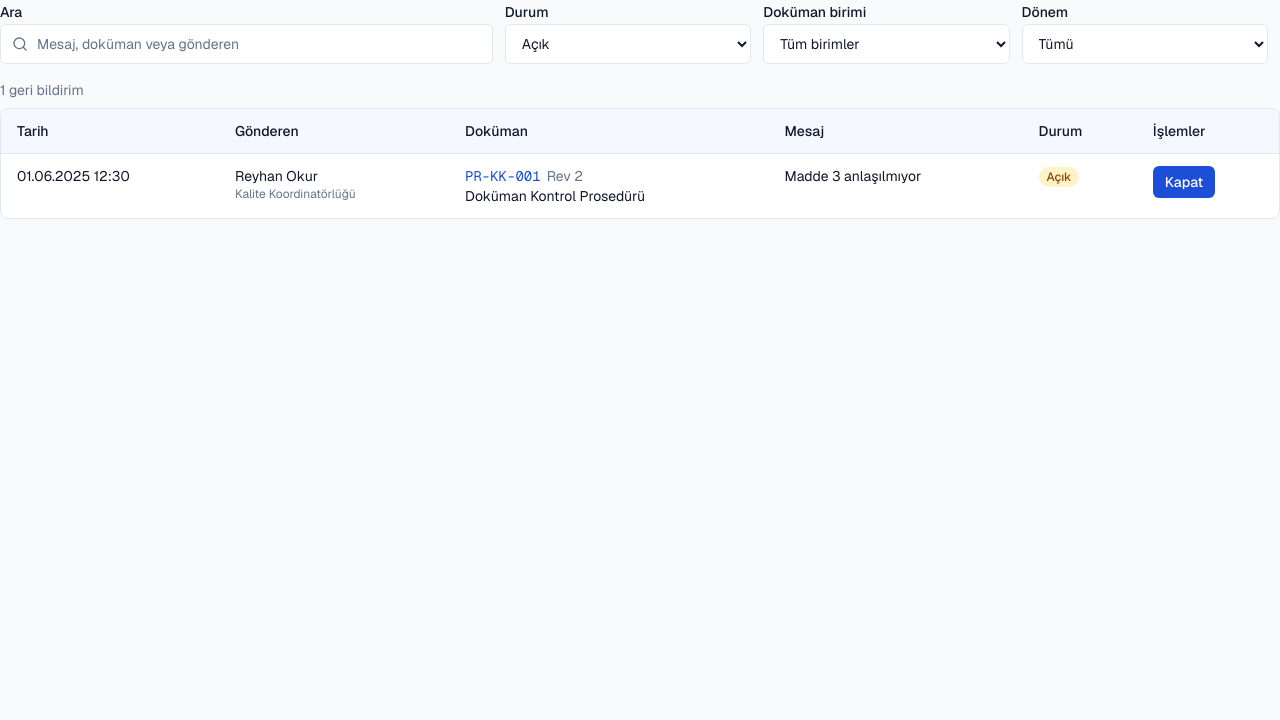
FeedbackList › closing › keeps the dialog open and shows the refusal
Expected: the table named "Geri bildirimler" is shown, [1, 109, 1279, 218]
Click the button "Kapat".
click(1184, 182)  # box [1153, 166, 1215, 198]
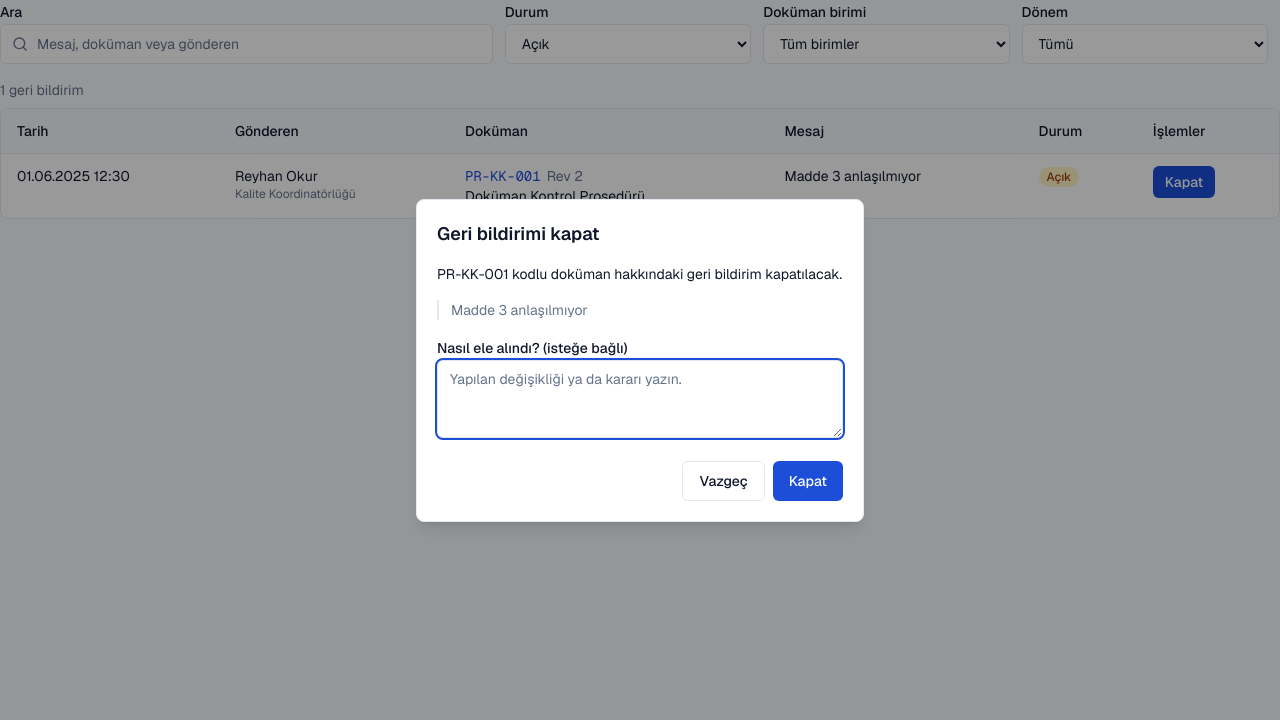
Click the button "Kapat".
click(808, 480)  # box [773, 460, 843, 500]
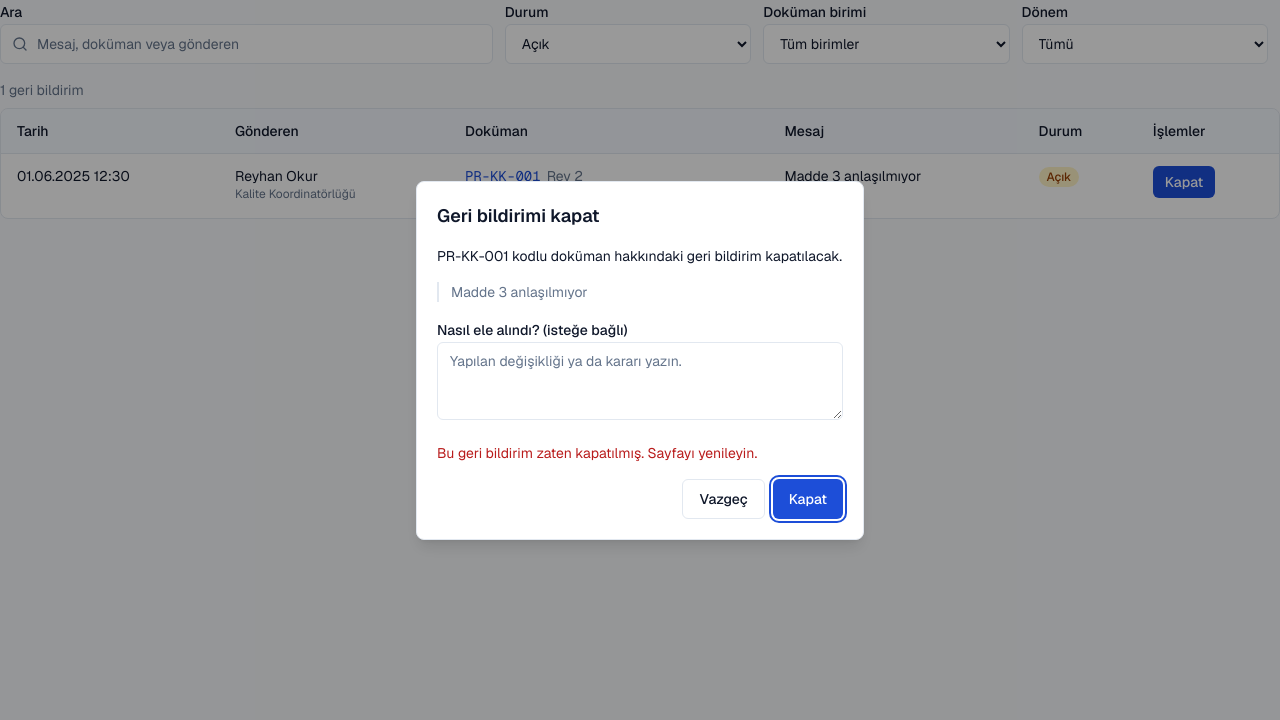
Now the message reads "Bu geri bildirim zaten kapatılmış. Sayfayı yenileyin.", box [437, 444, 757, 462]
